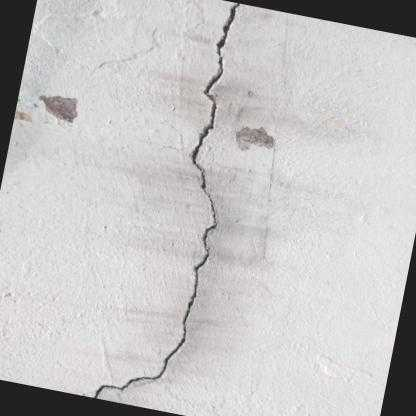crack: (92, 2, 240, 398), (92, 216, 218, 398)
